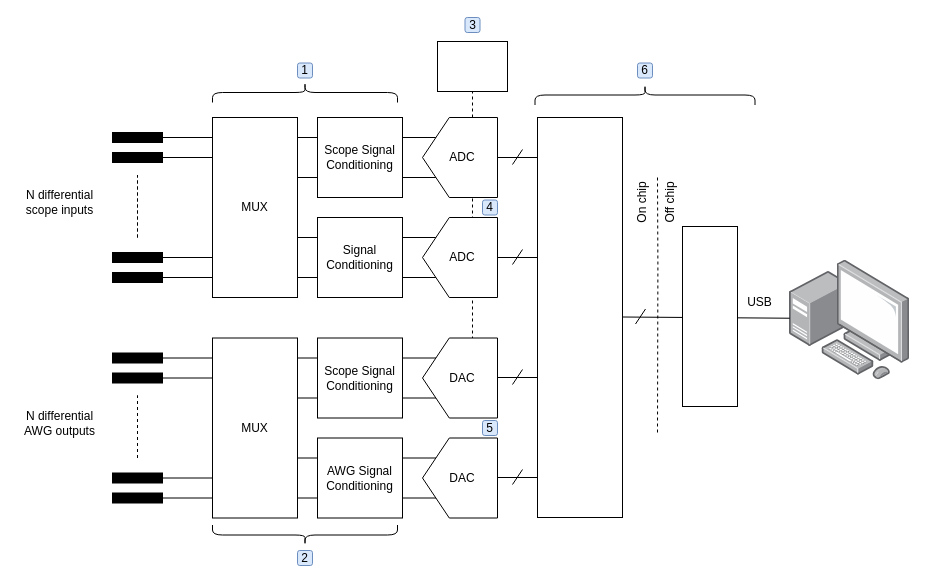
Image size: 926x583. Some labels were removed from this diagram. The centre of each missing label's shape, as x and y in pixels:
"Clock generator" goes at point 472,66.
"Data buffers & interface" goes at point 579,317.
"FPGA board" goes at point 710,316.
